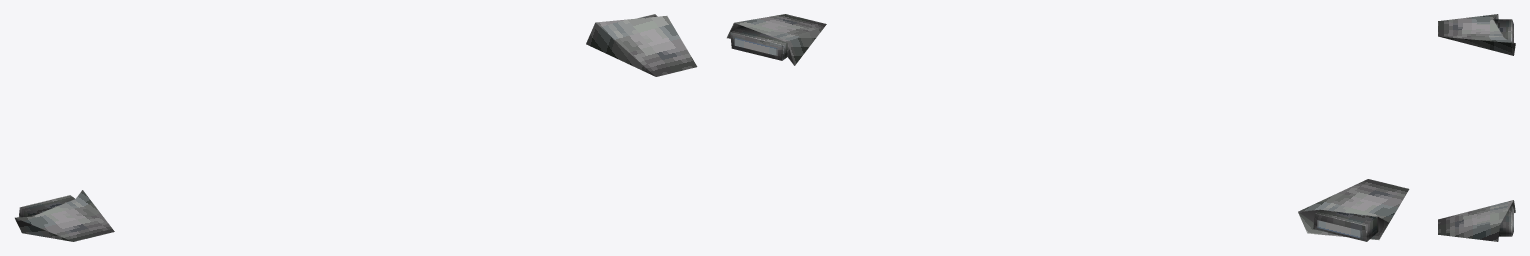
The model's file is xwing_booster_neg_s01_l2.fbx.
The picture shows the model from 3 angles, left to right: view 1: azimuth 30°, elevation 25°; view 2: azimuth 150°, elevation 25°; view 3: azimuth 270°, elevation 25°; orthographic projection. The views are drawn at different scales.
Visible parts, largest first — view 1: mesh_node; view 2: mesh_node; view 3: mesh_node.
Boxes of the visible parts, x1,y1,x2,y2 form: mesh_node: (15, 14, 697, 241); mesh_node: (727, 14, 1409, 241); mesh_node: (1438, 14, 1515, 241).
Bounding box in the file's own units: 8.52 × 0.7857 × 1.14.
Materials: 1 (1 with a texture image).
